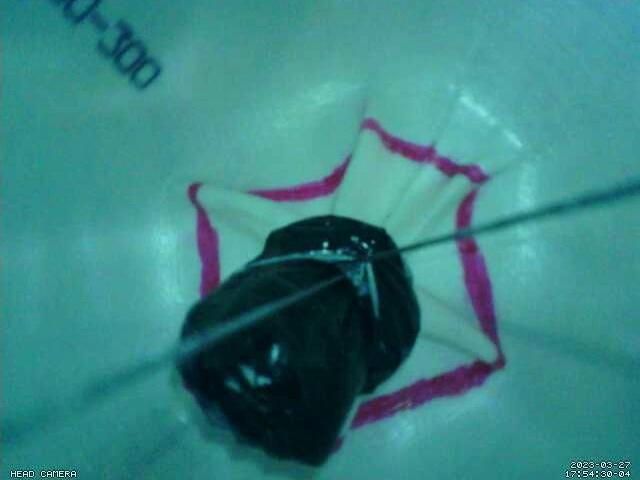red-circle: (186, 117, 508, 429)
